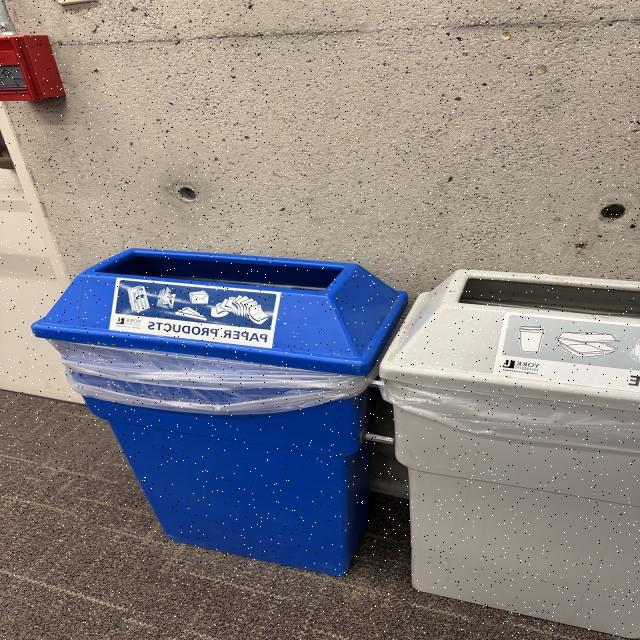Dustbin: (29, 246, 640, 639)
